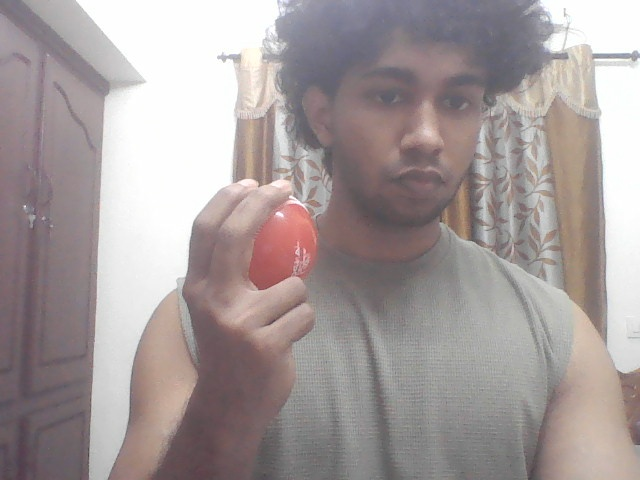cricket_ball: (250, 198, 323, 284)
